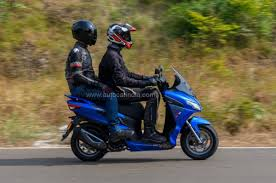with_helmet: (106, 22, 136, 49), (71, 19, 97, 45)
